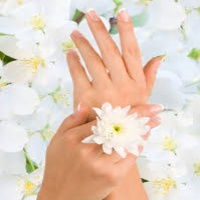ring: (69, 28, 108, 89)
